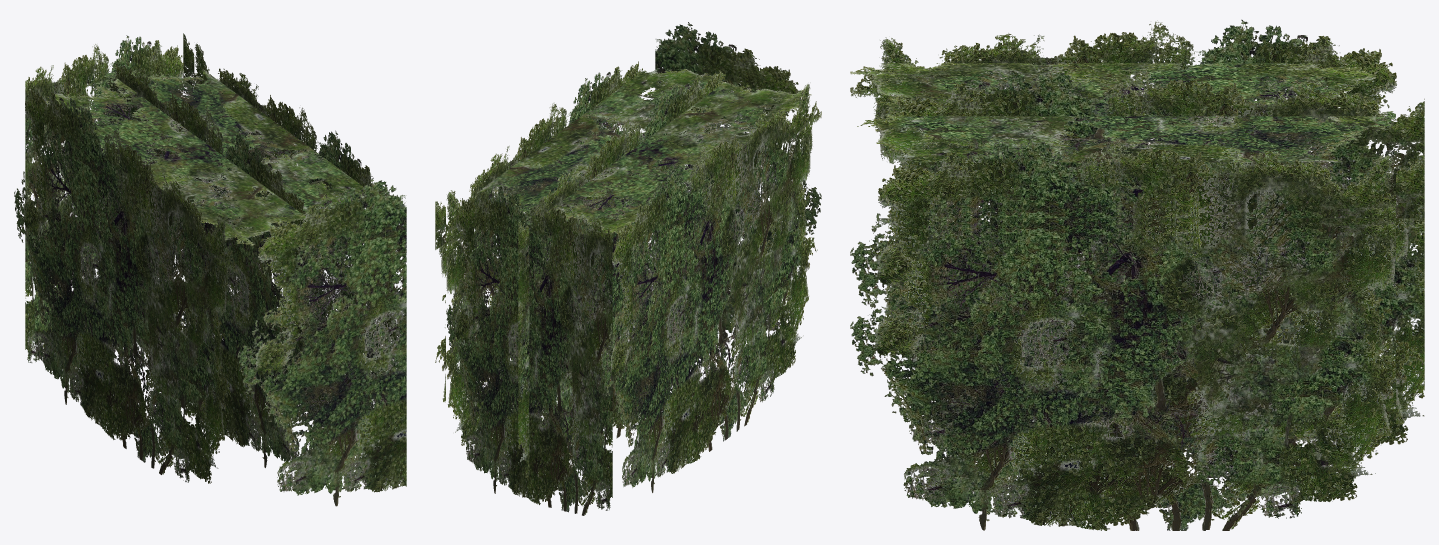
File: PH_Hedge-A.FBX
3 renders of one model, left to right at view 1: azimuth 30°, elevation 25°; view 2: azimuth 150°, elevation 25°; view 3: azimuth 270°, elevation 25°, orthographic. The views are drawn at different scales.
Visible parts, largest first — view 1: Group1; view 2: Group1; view 3: Group1.
Boxes of the visible parts, x1=… form: Group1: x1=14, y1=33, x2=406, y2=506; Group1: x1=435, y1=22, x2=821, y2=515; Group1: x1=850, y1=19, x2=1424, y2=530.
Size of the model in its own units: 79 by 143 by 181.
1 material, 1 textured.
